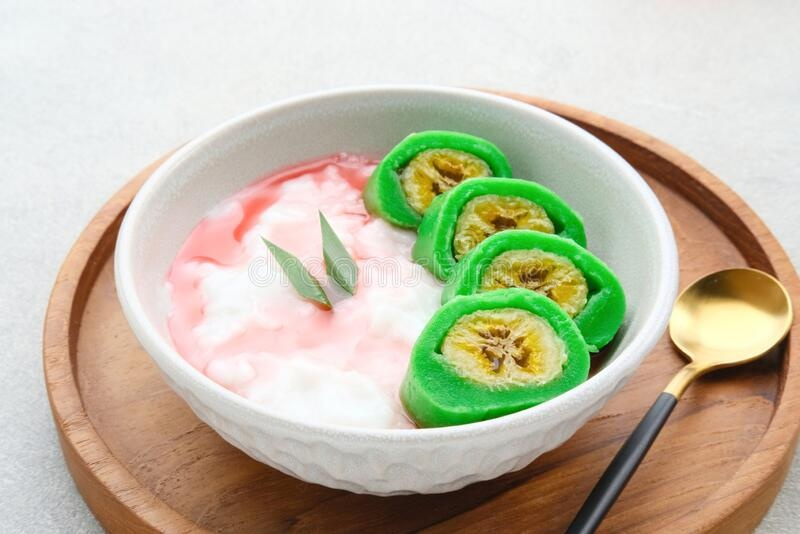es_pisang_ijo: (158, 127, 629, 429)
